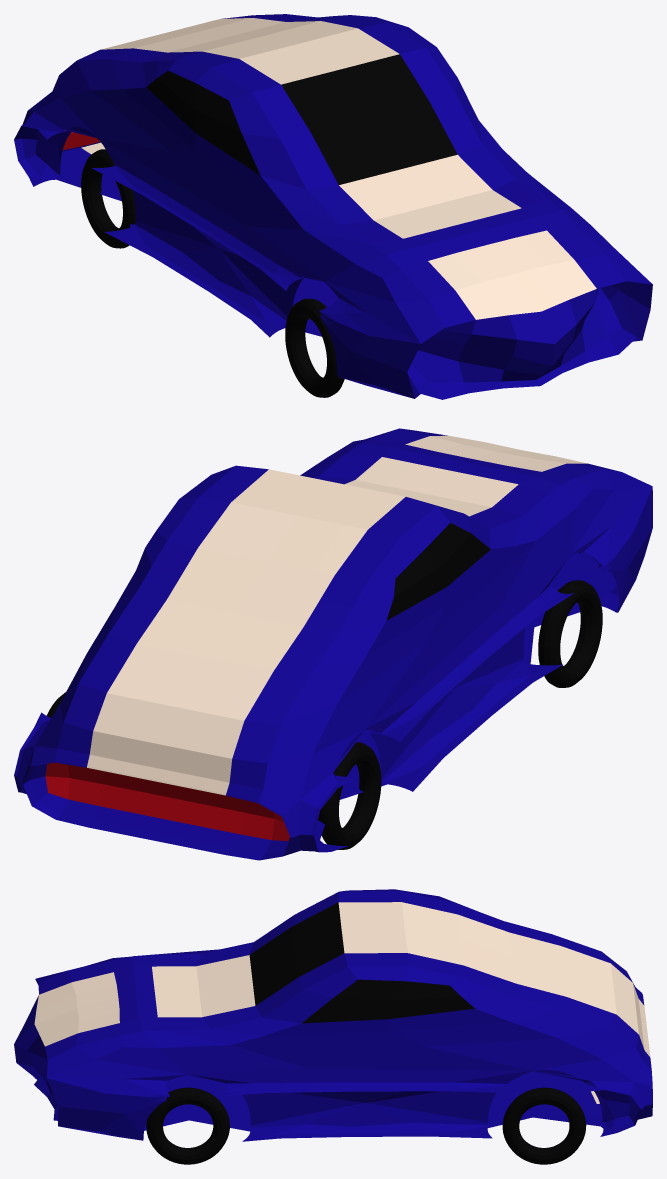
Rendered from car.glb.
3 views of the same model, one above another, from view 1: azimuth 30°, elevation 25°; view 2: azimuth 150°, elevation 25°; view 3: azimuth 270°, elevation 25° (orthographic). The views are drawn at different scales.
Visible parts, largest first — view 1: Cube, Torus.001, Torus.002; view 2: Cube, Torus.001, Torus.002; view 3: Cube, Torus.003, Torus.004.
Part boxes in pixels (x1,y1,x2,y2): Cube: (14, 14, 652, 399); Torus.001: (285, 298, 344, 397); Torus.002: (81, 149, 135, 248); Cube: (14, 428, 652, 860); Torus.001: (538, 580, 602, 687); Torus.002: (318, 742, 381, 849); Cube: (14, 889, 652, 1141); Torus.003: (502, 1087, 586, 1164); Torus.004: (146, 1087, 229, 1164).
Size of the model in its own units: 5.14 by 3.61 by 11.16.
